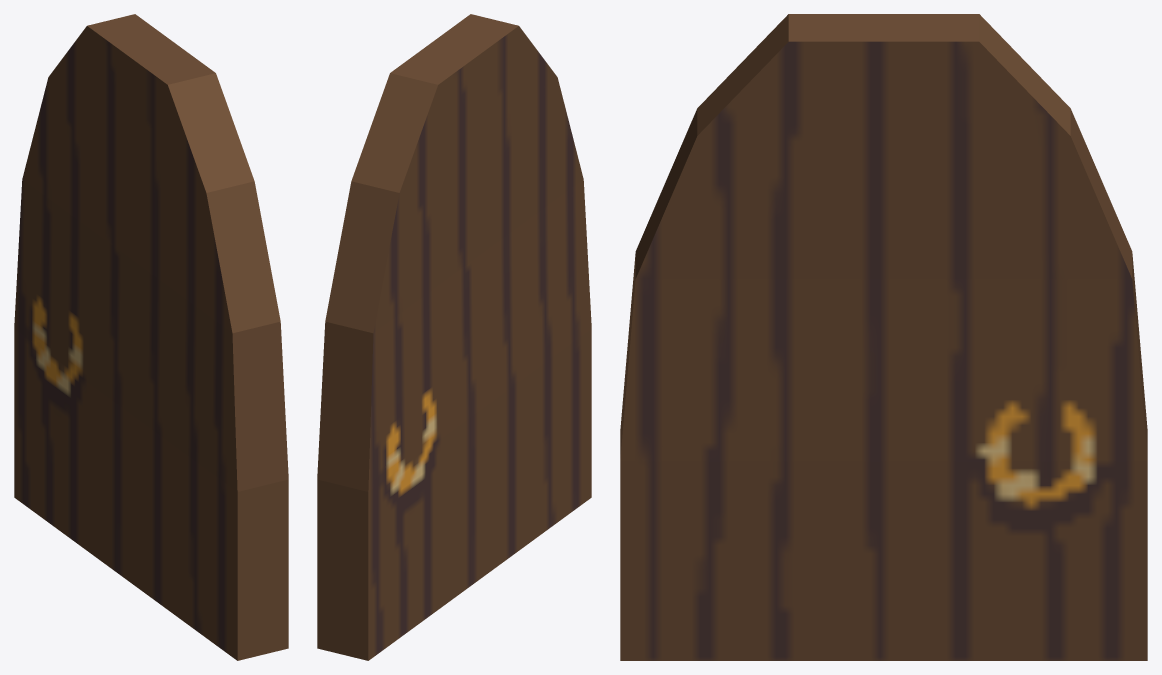
Rendered from Door.fbx.
The picture shows the model from 3 angles, left to right: view 1: azimuth 30°, elevation 25°; view 2: azimuth 150°, elevation 25°; view 3: azimuth 270°, elevation 25°; orthographic projection. The views are drawn at different scales.
Parts seen in each view (by area): view 1: Cube; view 2: Cube; view 3: Cube.
Boxes of the visible parts, box(x1,y1,x2,y2) form: Cube: box(14, 14, 288, 660); Cube: box(317, 14, 591, 660); Cube: box(620, 14, 1147, 660).
Bounding box in the file's own units: 135 × 1318 × 1019.
